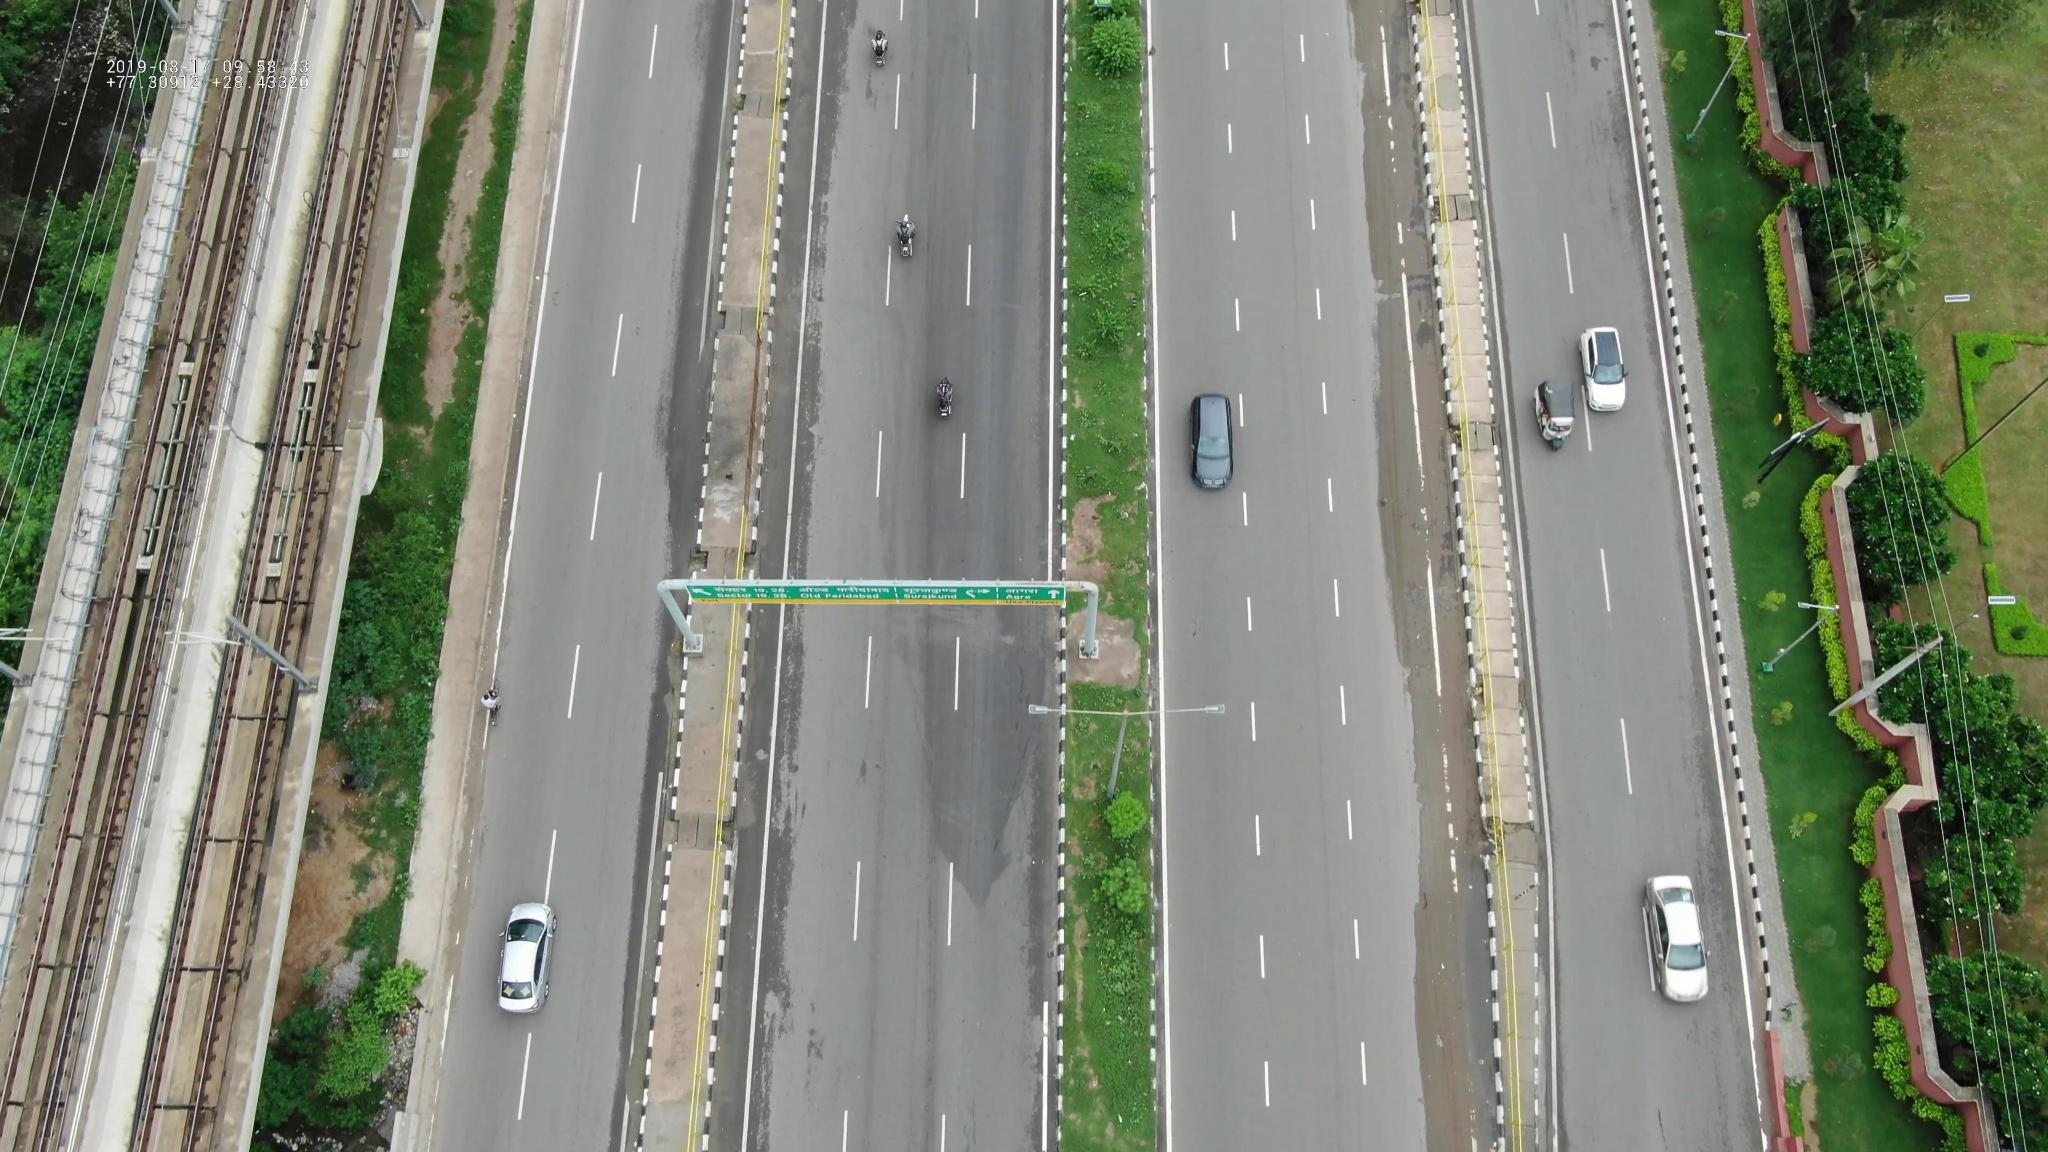Muddy_road: (1364, 387, 1483, 845), (1348, 11, 1453, 377), (1380, 855, 1506, 1137)
